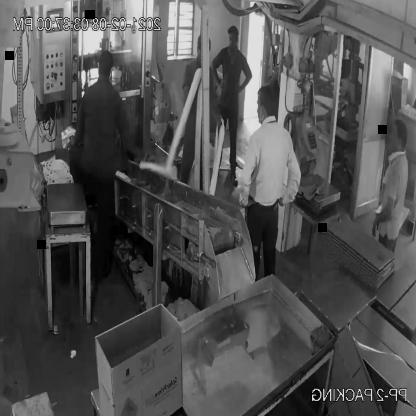no_glove: (237, 143, 262, 209), (366, 193, 399, 241), (281, 146, 305, 211), (231, 63, 256, 105)
